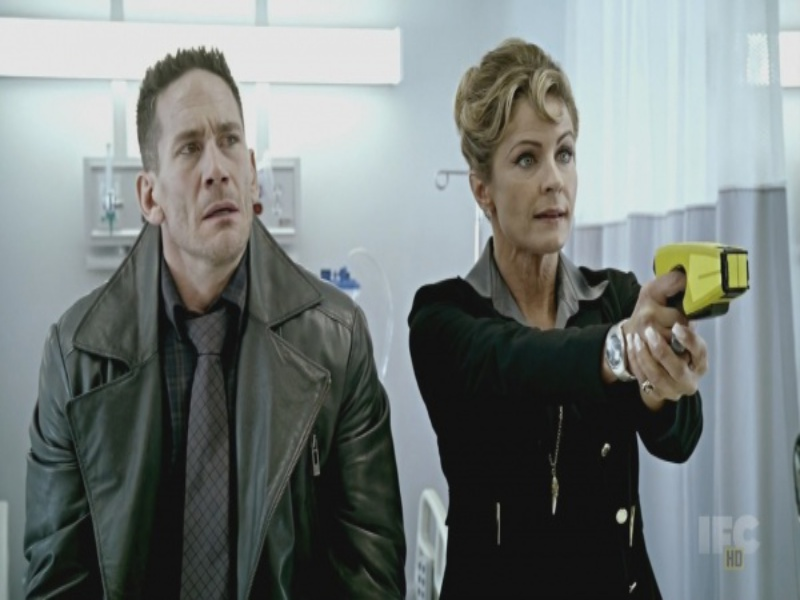person: (19, 47, 411, 600), (406, 45, 707, 593)
weapon: (654, 243, 760, 324)
